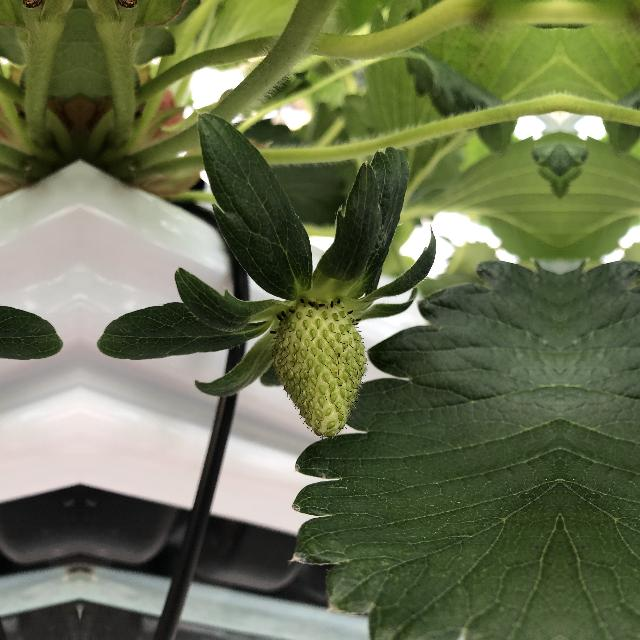Health_25: (267, 298, 377, 440)
